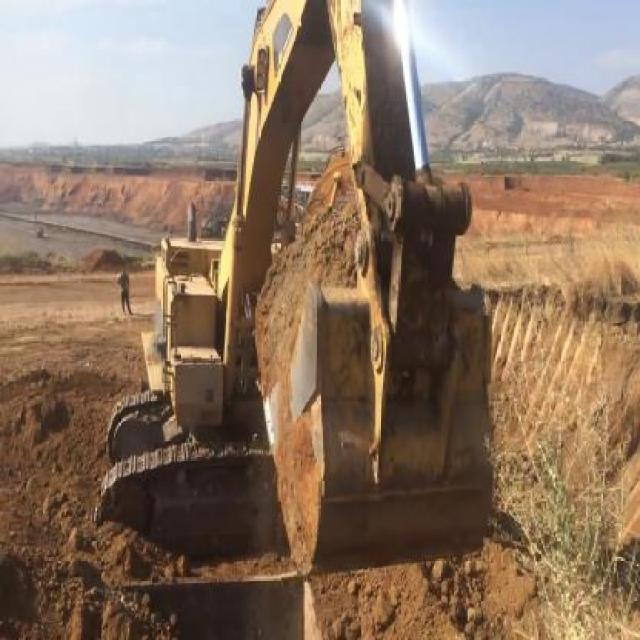Excavator: (92, 0, 497, 588)
